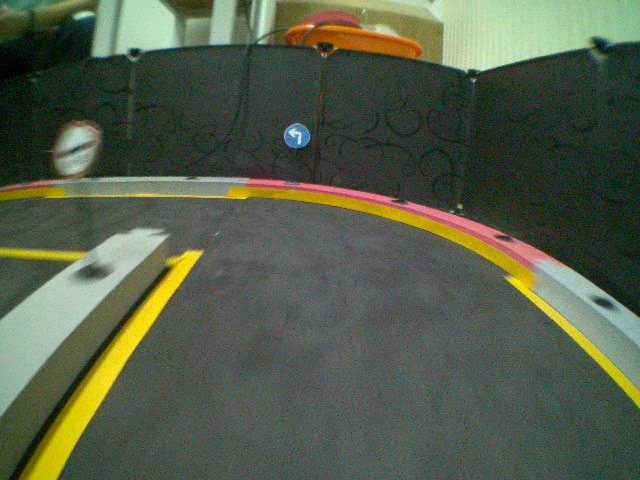Check: (48, 118, 101, 179)
turn: (284, 120, 312, 152)
